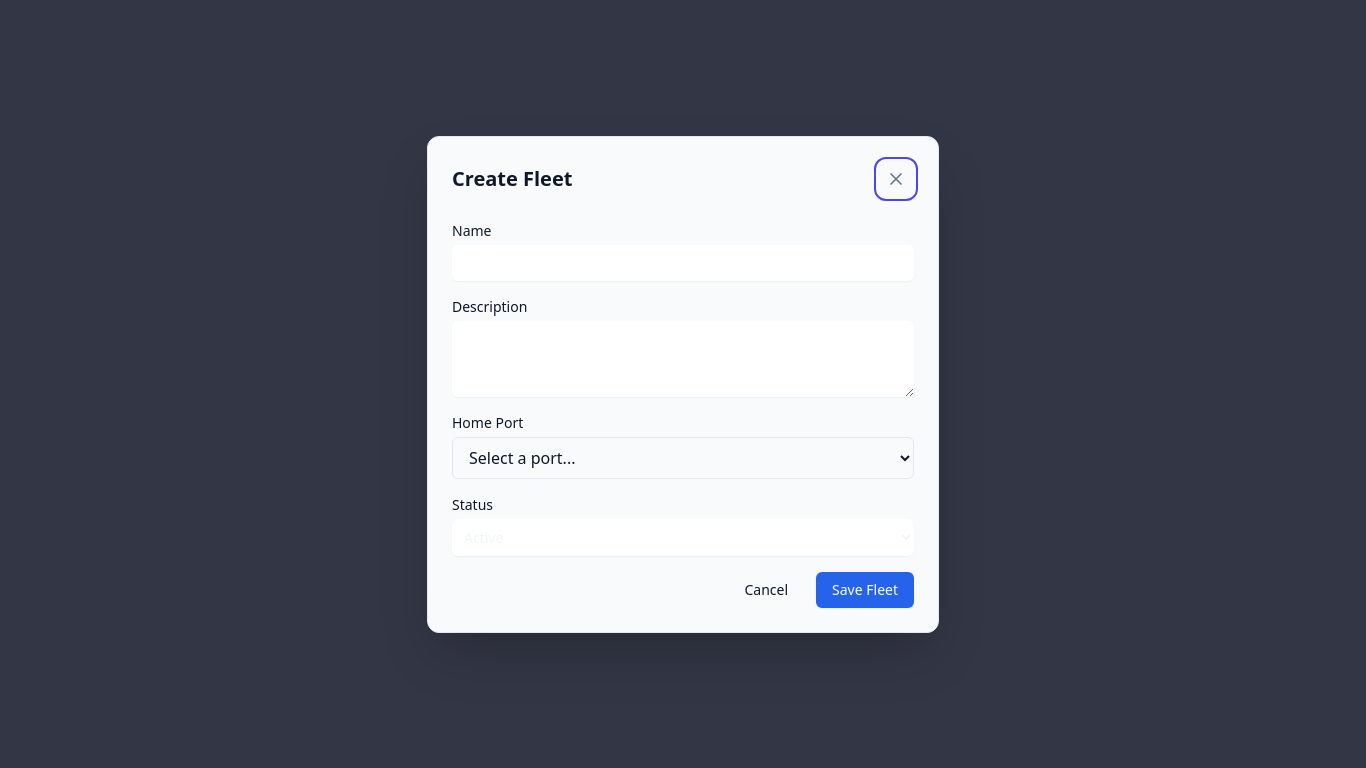
FleetFormModal › blocks invalid submissions client-side without making a network request
Note: Leave name empty and submit
Click the button "Save Fleet" at (865, 590), box [816,572,914,608]
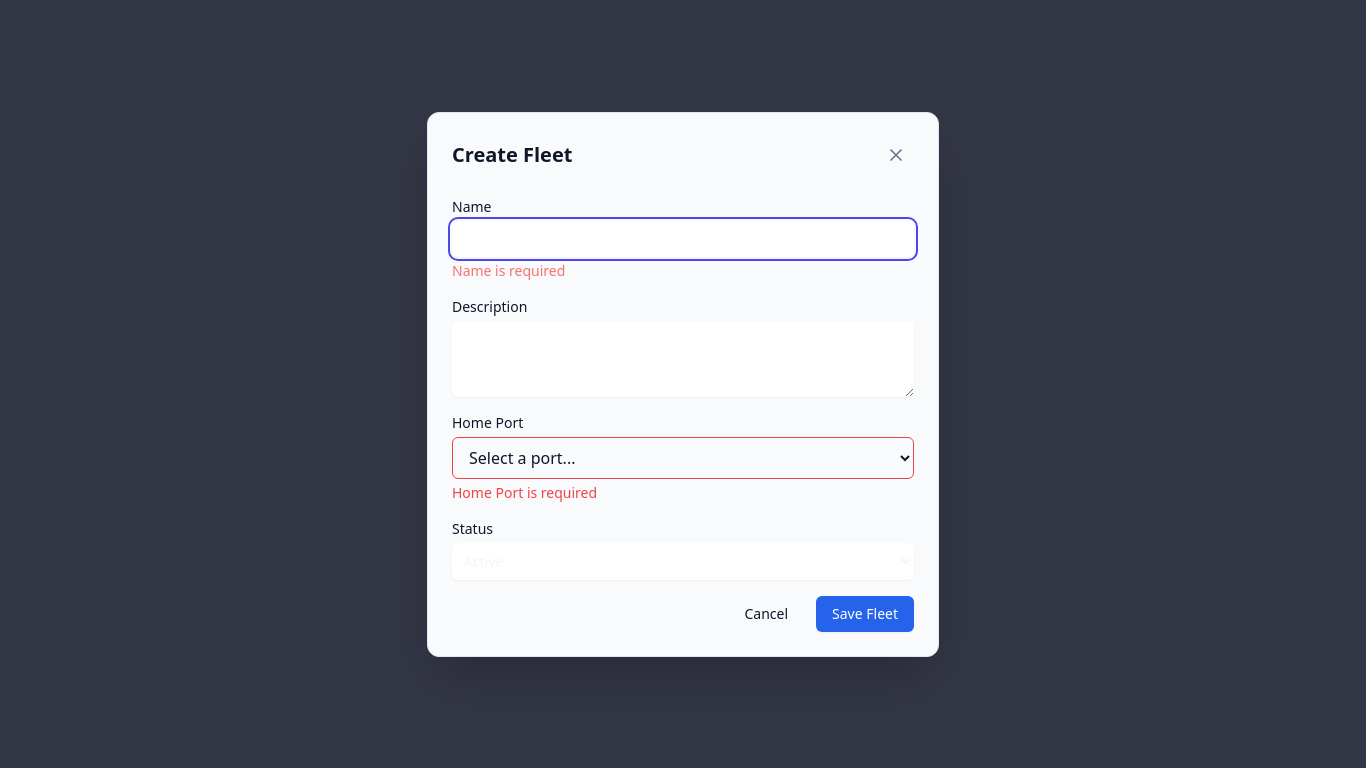
Expected: the text "Name is required" is shown, [452,260,565,280]
